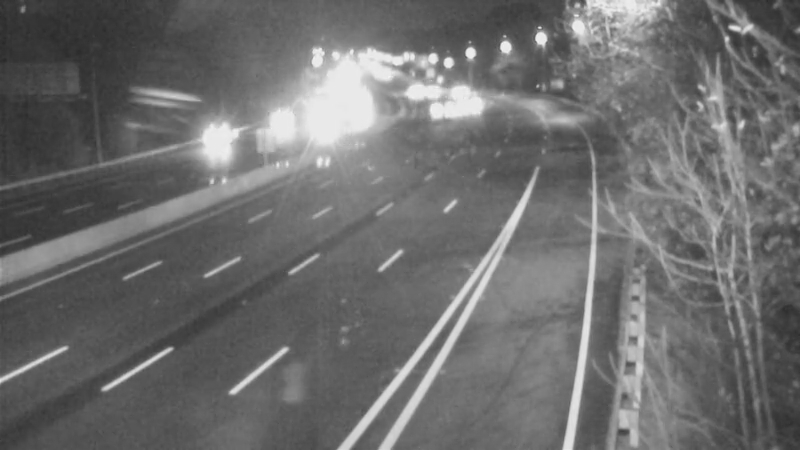vehicle: (445, 76, 495, 126), (398, 86, 448, 136), (180, 109, 230, 159), (262, 94, 312, 144), (292, 95, 342, 145)
